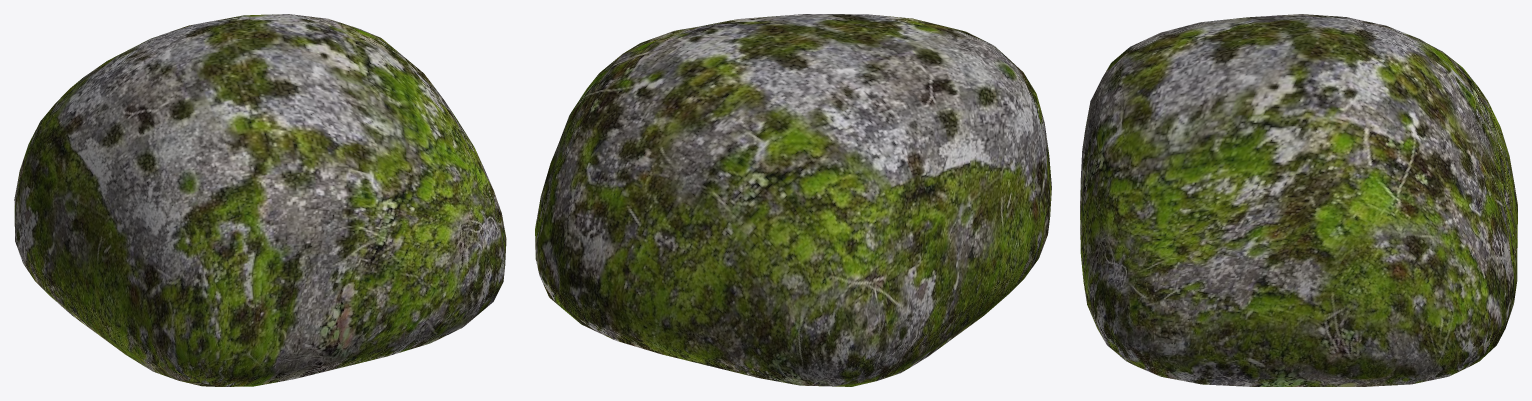
File: rocksmoothed.gltf
The picture shows the model from 3 angles, left to right: view 1: azimuth 30°, elevation 25°; view 2: azimuth 150°, elevation 25°; view 3: azimuth 270°, elevation 25°; orthographic projection. The views are drawn at different scales.
Size of the model in its own units: 1.99 by 1.42 by 1.98.
1 material, 1 textured.
